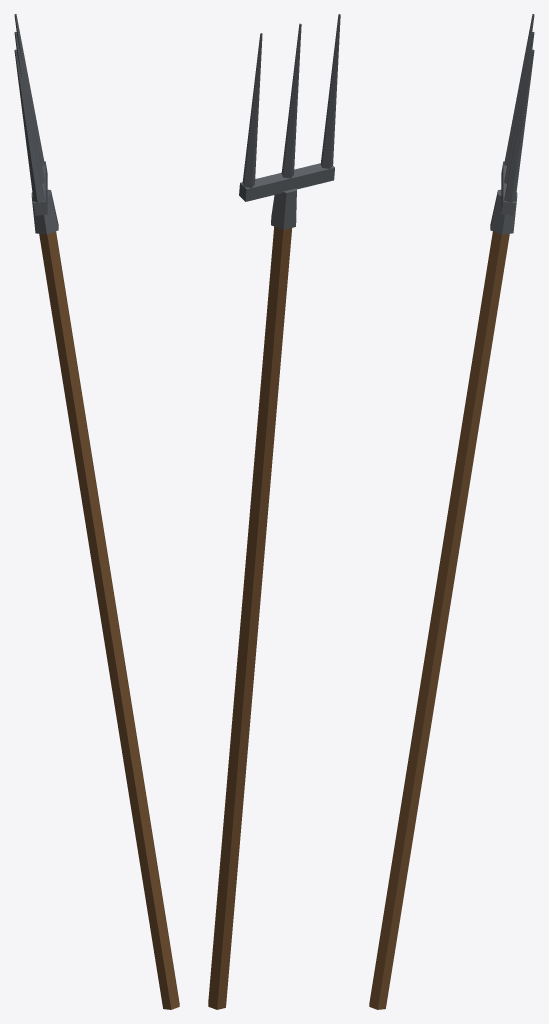
Rendered from prop-pitchfork.glb.
3 views of the same model, side by side, from view 1: azimuth 90°, elevation 25°; view 2: azimuth 210°, elevation 25°; view 3: azimuth 270°, elevation 25° (orthographic). The views are drawn at different scales.
Visible parts, largest first — view 1: PropPitchfork; view 2: PropPitchfork; view 3: PropPitchfork.
Boxes of the visible parts, x1,y1,x2,y2 form: PropPitchfork: (14,14,179,1009); PropPitchfork: (208,14,340,1009); PropPitchfork: (369,14,534,1009).
Bounding box in the file's own units: 0.1709 × 1.91 × 0.2935.
